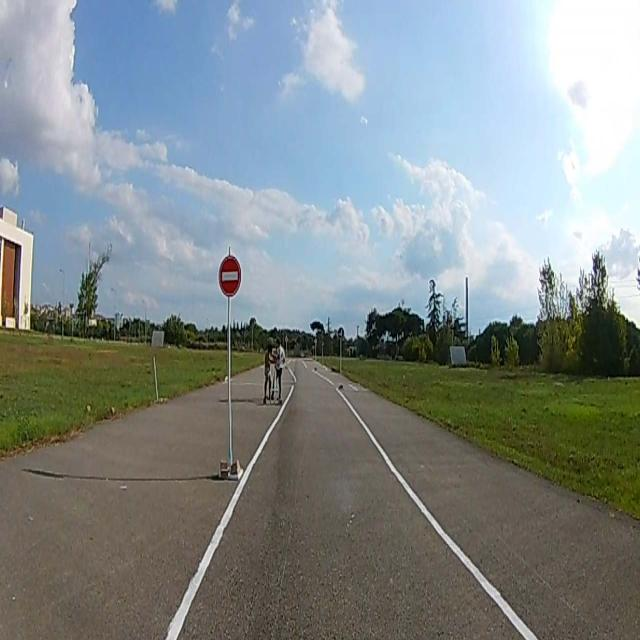girisyok: (219, 258, 241, 294)
